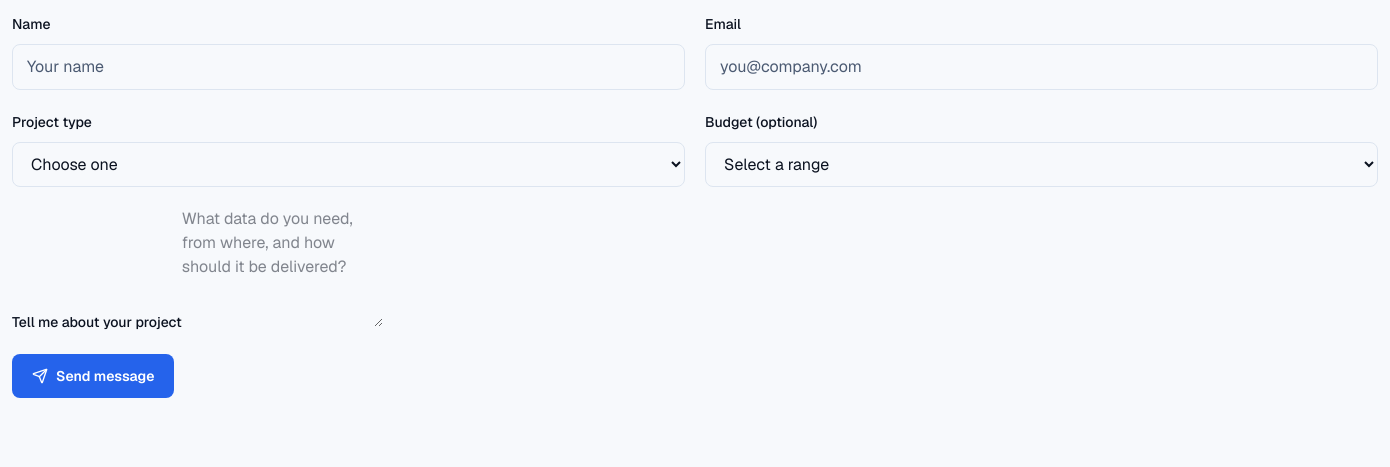
it: ContactForm › shows server field errors from a 422 and focuses the first invalid field
The width and height of the screenshot is (1390, 467).
Type "Test Person" into the field labelled "Name" at (348, 67), box [12,44,685,90]
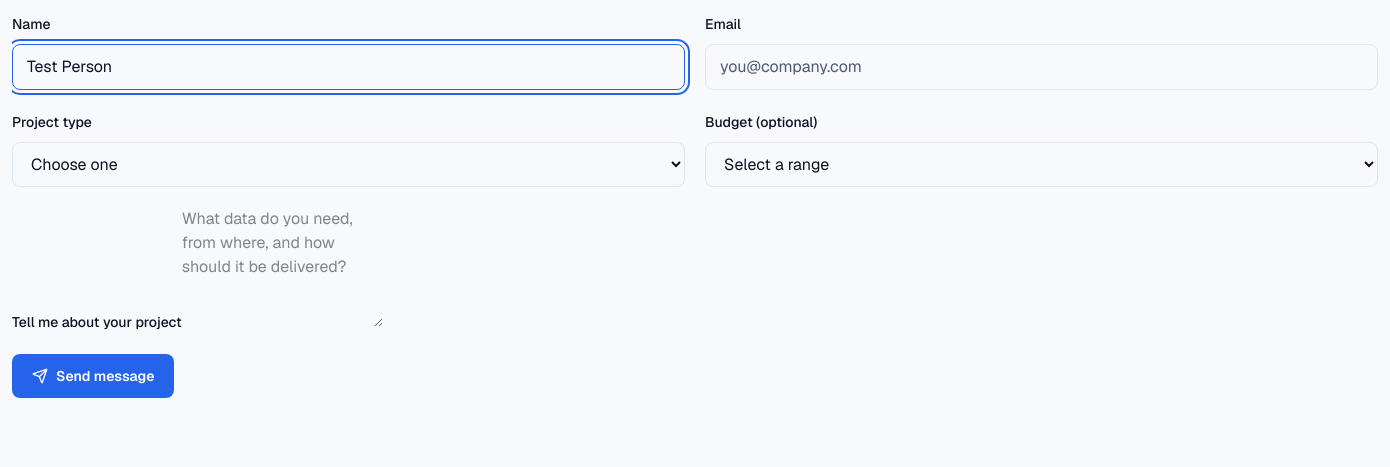
Type "test@example.com" into the field labelled "Email" at (1042, 67), box [705,44,1378,90]
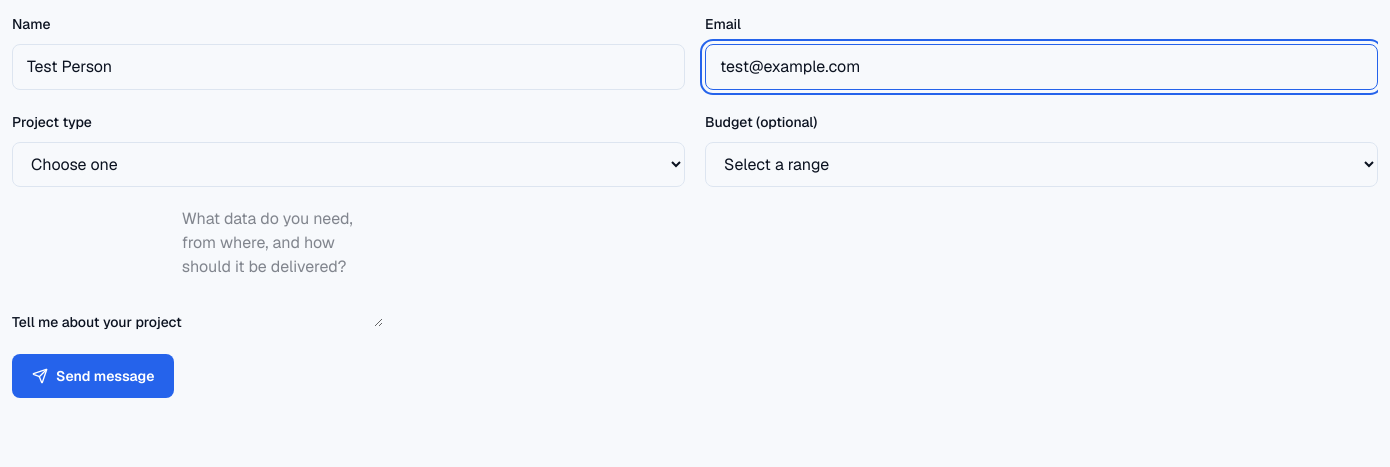
Select "Web scraping" in the dropdown labelled "Project type" at (348, 164), box [12,142,685,187]
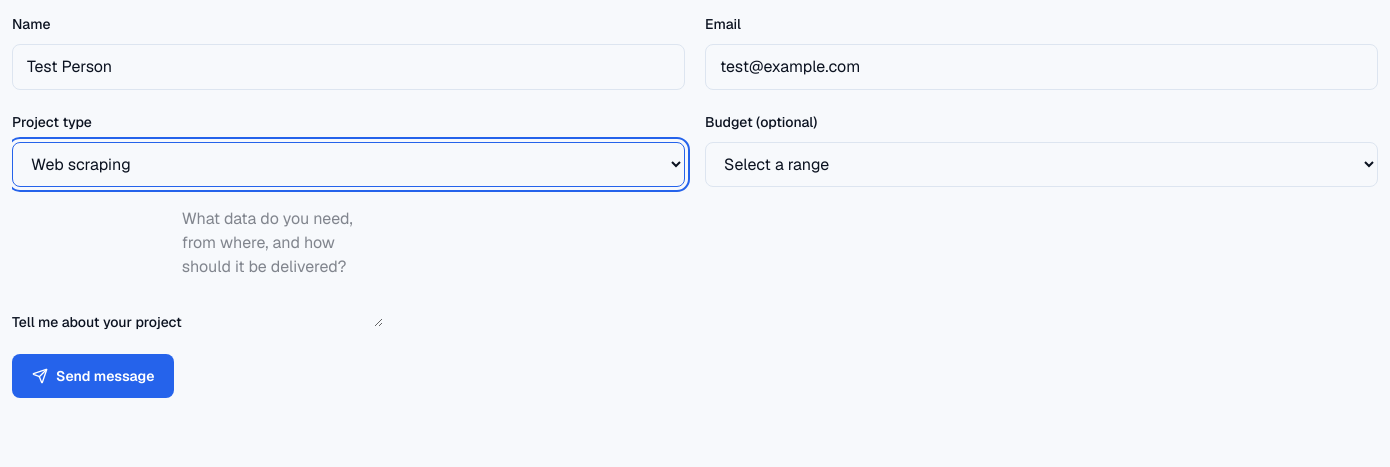
Type "I need listings from ten portals delivered daily." into the text box labelled "Tell me about your project" at (282, 267), box [182,207,383,327]
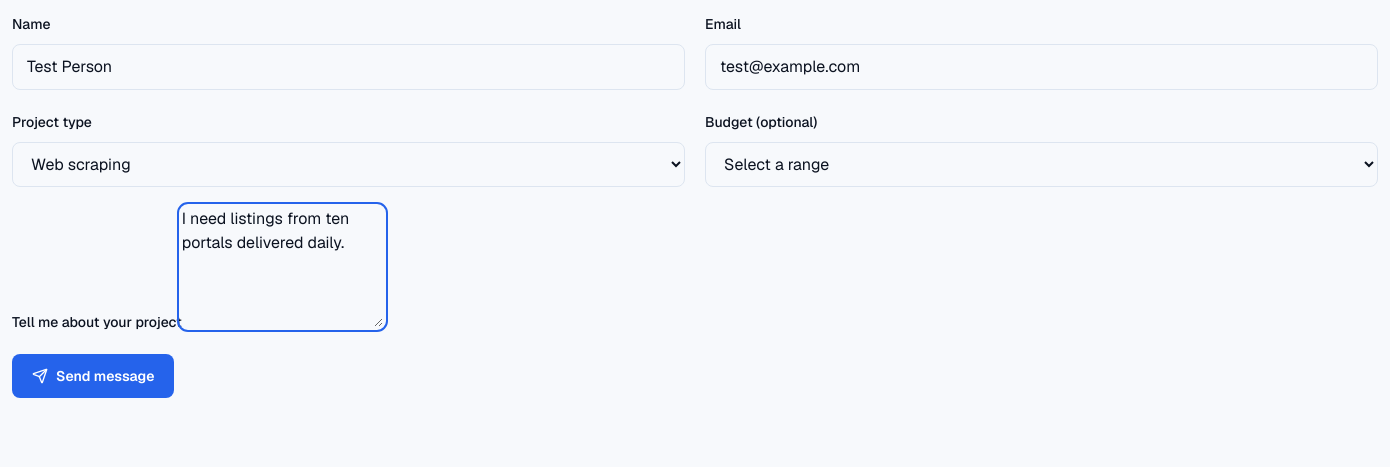
Click the button "Send message" at (93, 376), box [12,354,174,398]
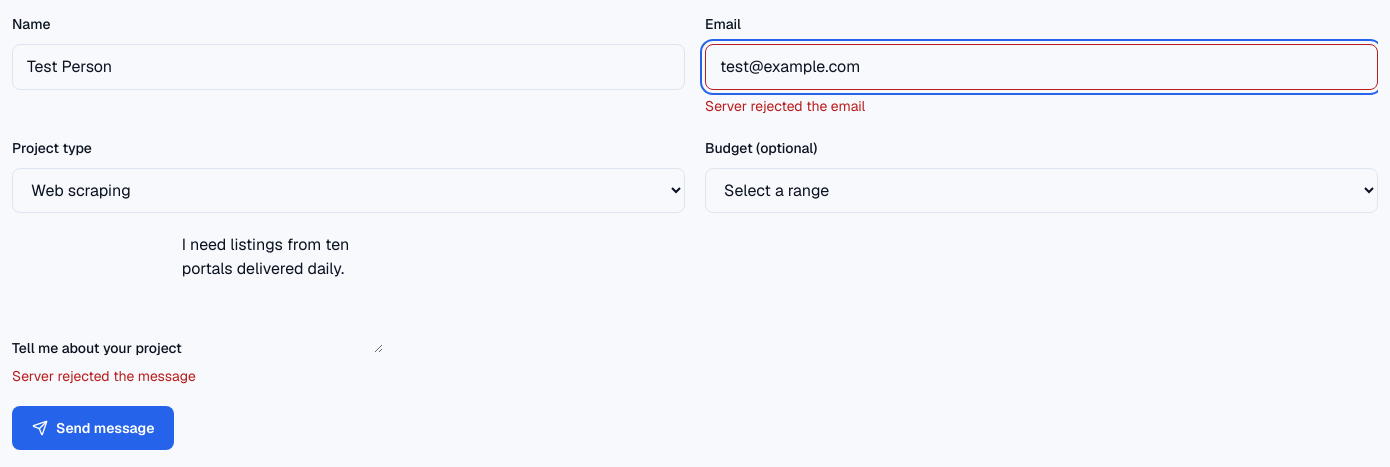
Expected: the text "Server rejected the email" is shown, [705,97,865,115]
Expected: the text "Server rejected the message" is shown, [12,367,196,385]
